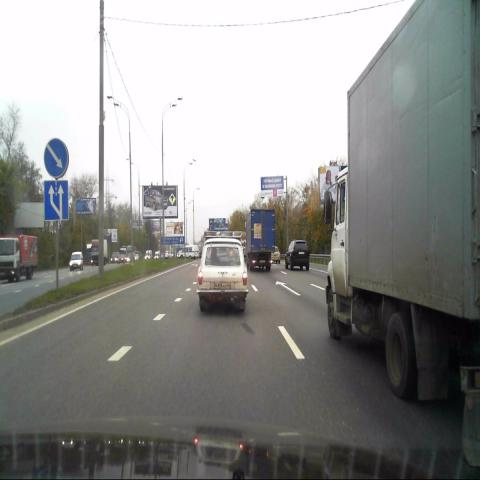4_2_1: (43, 138, 69, 179)
